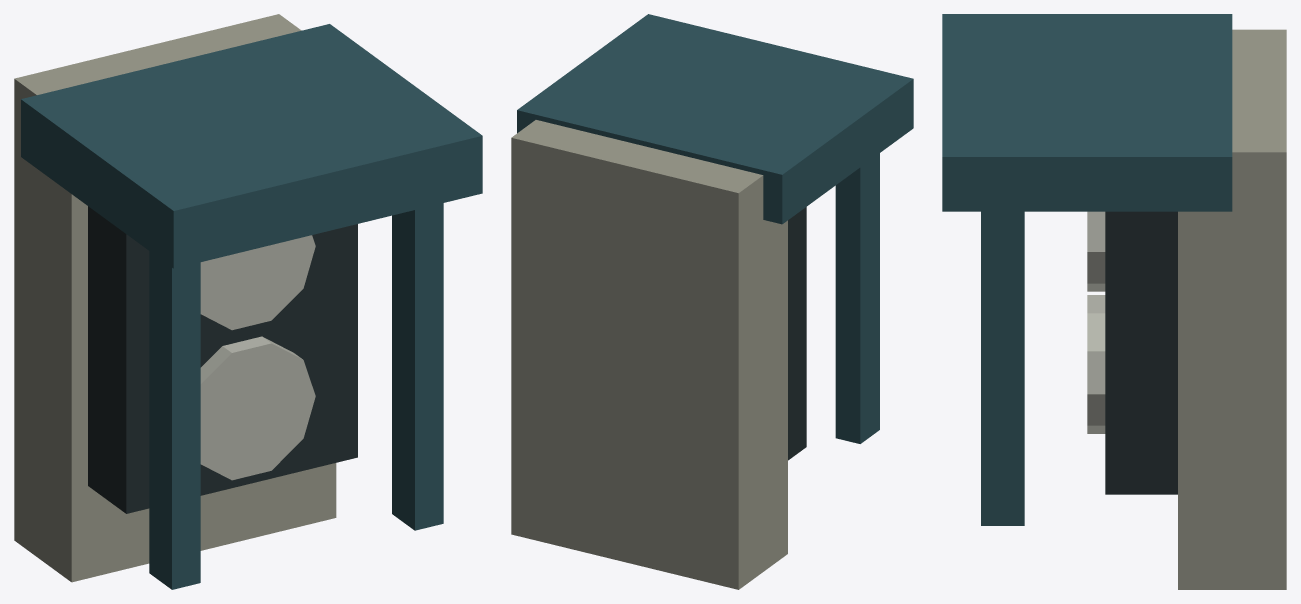
The picture shows the model from 3 angles, left to right: view 1: azimuth 30°, elevation 25°; view 2: azimuth 150°, elevation 25°; view 3: azimuth 270°, elevation 25°; orthographic projection. The views are drawn at different scales.
Visible parts, largest first — view 1: a123; view 2: a123; view 3: a123.
Boxes of the visible parts, x1,y1,x2,y2 form: a123: (14, 14, 482, 589); a123: (511, 14, 913, 589); a123: (942, 14, 1286, 589).
Bounding box in the file's own units: 0.14 × 0.2025 × 0.1425.
